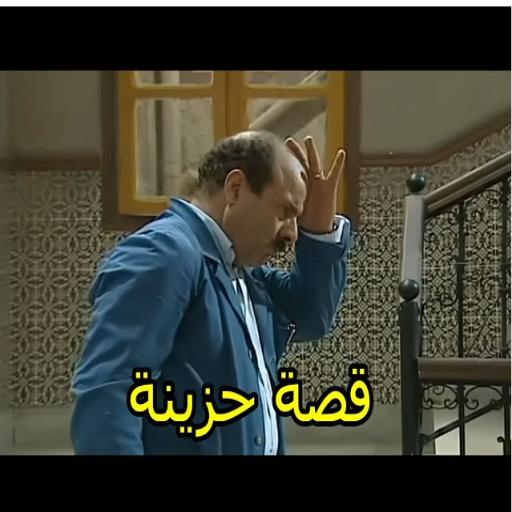beji_matrix: (194, 131, 305, 265)
